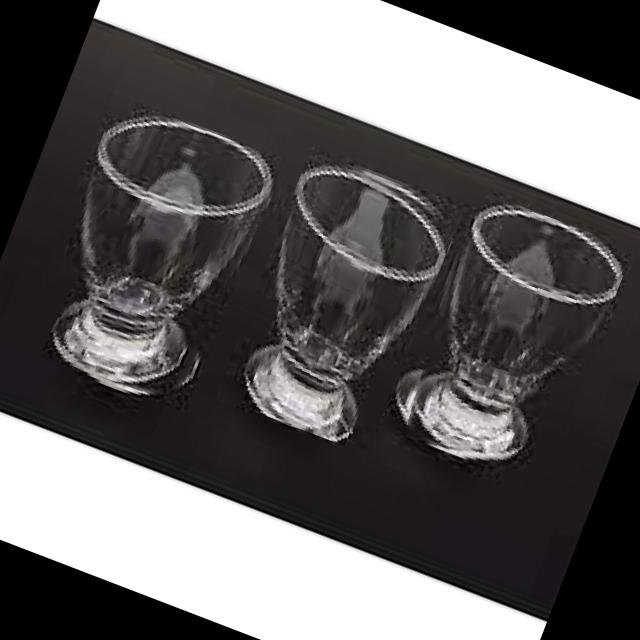Glass: (21, 97, 288, 416), (216, 147, 464, 456), (384, 188, 634, 488)
